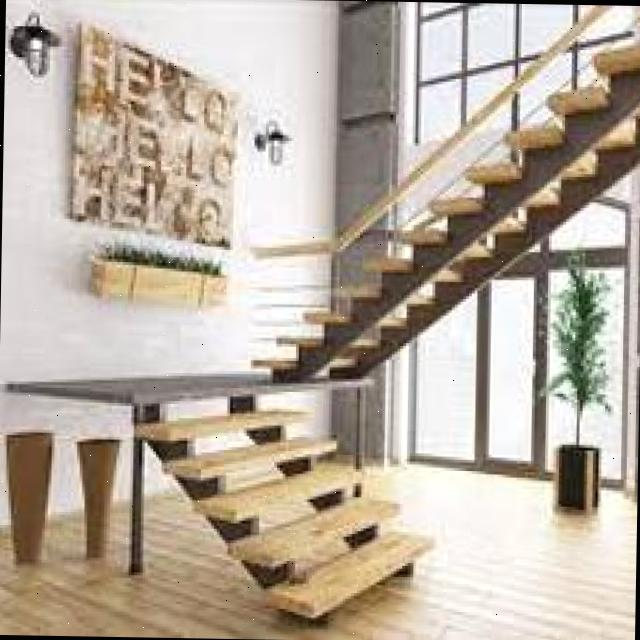stairs: (6, 129, 576, 627)
